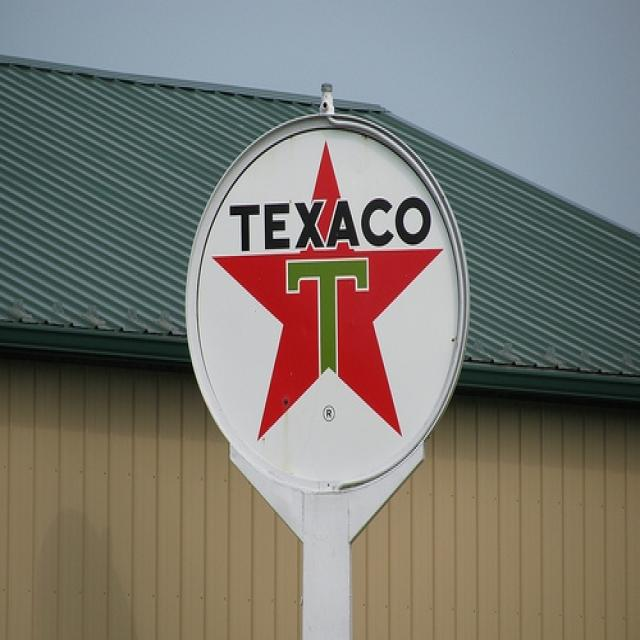texaco: (192, 122, 468, 494)
